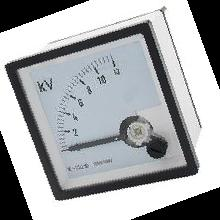pointer: (16, 34, 187, 190)
